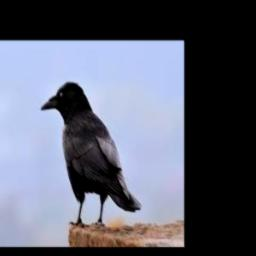Crow: (40, 81, 142, 227)
